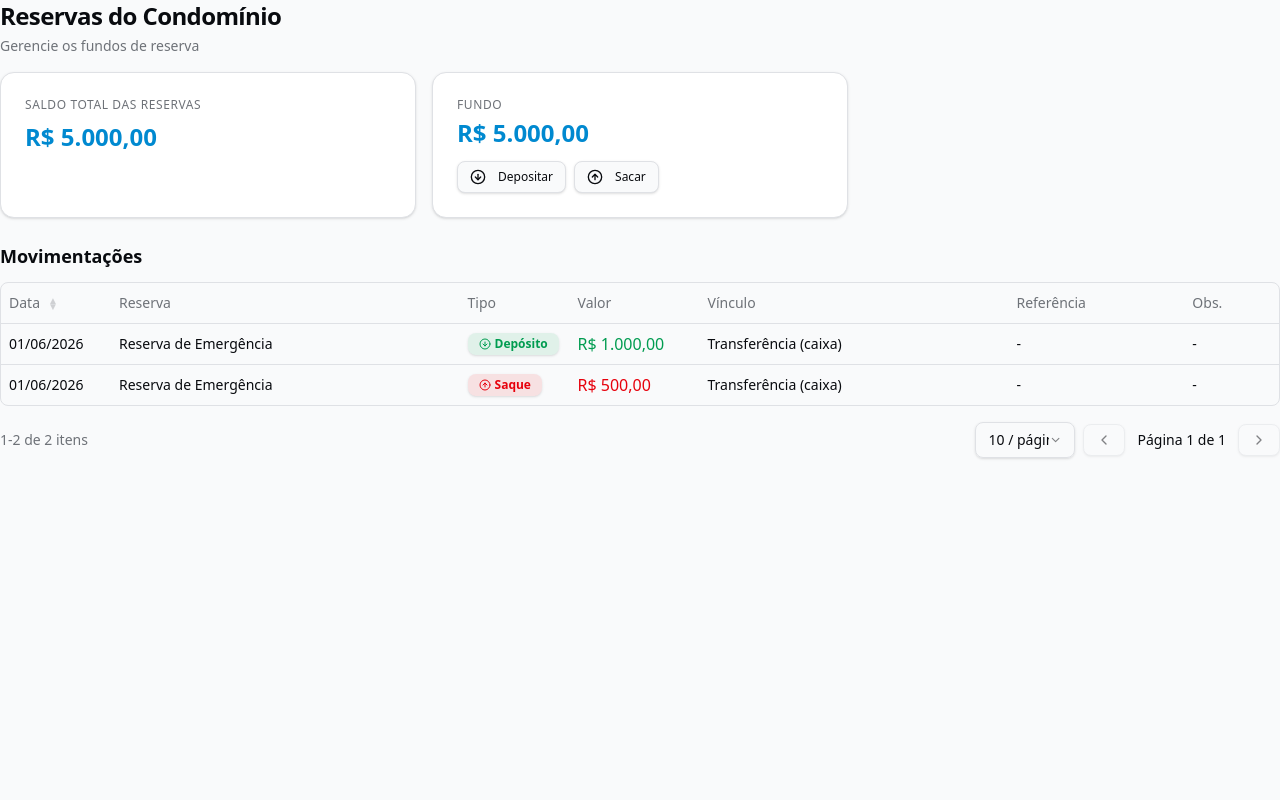
Scenario: ReservePage › opens the deposit dialog when the deposit button is clicked
The width and height of the screenshot is (1280, 800).
Click the button "Depositar".
click(512, 177)  # box left=457, top=161, right=566, bottom=193
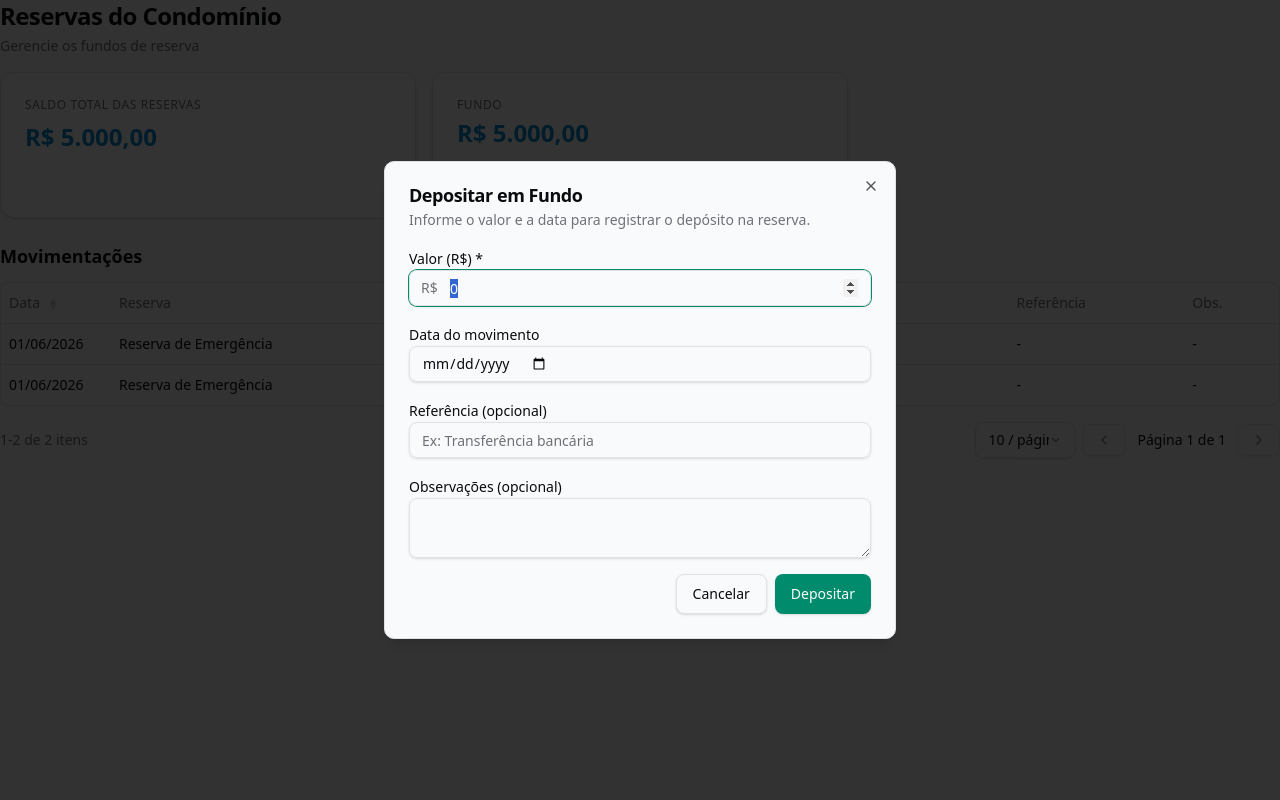
Check: the heading "Depositar em Fundo" is shown, box left=409, top=183, right=582, bottom=207
